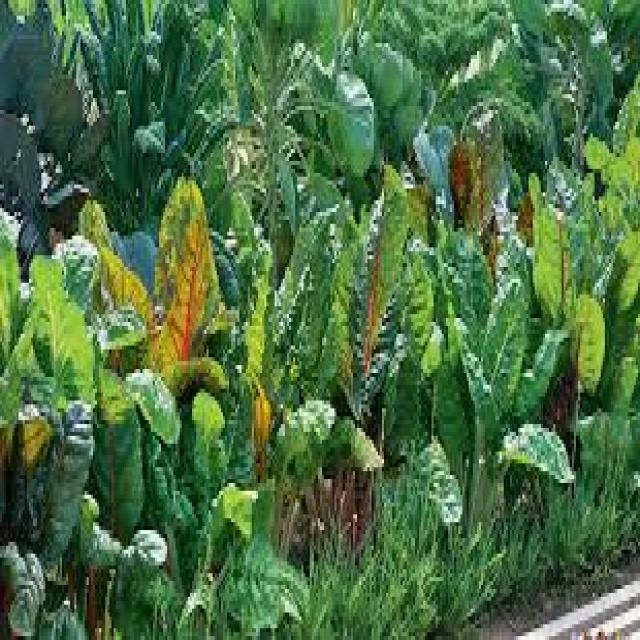organic waste: (0, 0, 638, 636), (341, 157, 398, 408), (14, 44, 108, 192), (386, 200, 454, 393), (151, 169, 206, 369), (27, 384, 91, 554), (468, 263, 534, 420), (60, 224, 132, 357), (89, 365, 144, 538), (506, 404, 584, 514), (33, 259, 87, 389), (314, 47, 367, 169), (274, 385, 338, 467), (535, 192, 574, 322), (448, 220, 493, 318), (84, 236, 144, 306), (572, 294, 609, 400), (446, 326, 487, 416), (432, 349, 466, 444)
